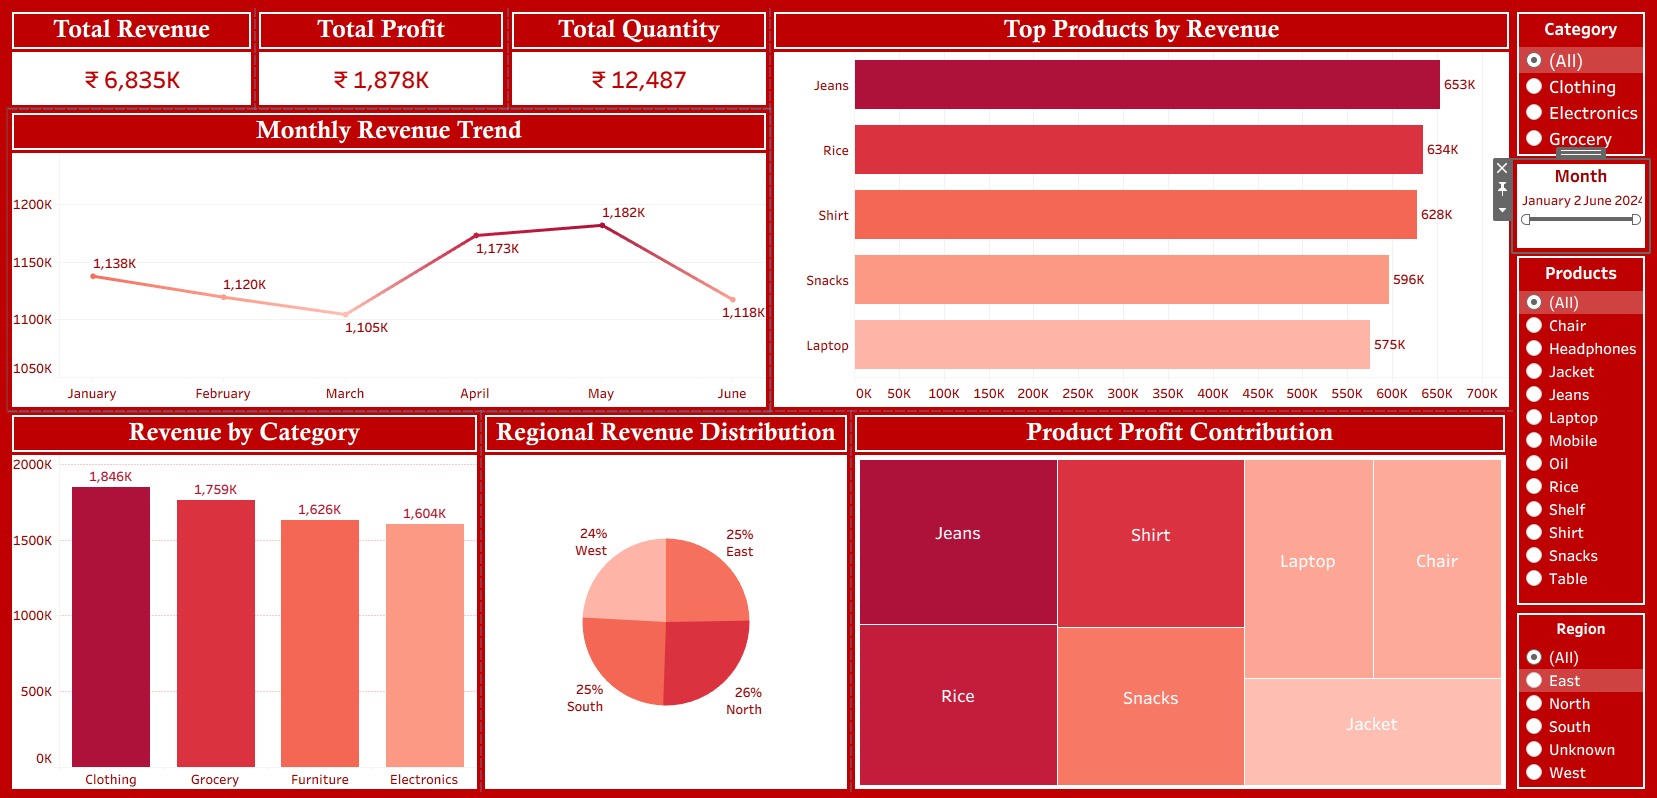

The page's visual inventory and layout, read from the dashboard file:
{"tool":"tableau","page":{"name":"Sales Performance Analysis Dashboard","canvas":[1000,1000],"units":"permille","ordinal":0},"visuals":[{"type":"worksheet","title":"Total Revenue","mark":"Automatic","box":[4.8,10,149.2,126]},{"type":"worksheet","title":"Total Profit","mark":"Automatic","box":[154.1,10,152.3,126]},{"type":"worksheet","title":"Total Quantity","mark":"Automatic","box":[306.4,10,158.4,126]},{"type":"worksheet","title":"Top Products by Revenue","mark":"Automatic","rows":["Product"],"cols":["Revenue"],"box":[464.7,10,448.4,503.1]},{"type":"filter","title":"Top Products by Revenue","param":"[federated.0xq11s31ljp14e19ptyl91097vs1].[Action (Category)]","box":[913.1,10,82.1,189.8]},{"type":"worksheet","title":"Monthly Revenue Trend","mark":"Automatic","rows":["Revenue"],"cols":["Month"],"box":[4.8,136,459.9,377.1]},{"type":"filter","title":"Monthly Revenue Trend","param":"[federated.0xq11s31ljp14e19ptyl91097vs1].[tmn:Month:qk]","box":[913.1,199.8,82.1,114.9]},{"type":"filter","title":"Regional Revenue Distribution","param":"[federated.0xq11s31ljp14e19ptyl91097vs1].[Action (Product)]","box":[913.1,314.6,82.1,445.7]},{"type":"worksheet","title":"Revenue by Category","mark":"Automatic","rows":["Revenue"],"cols":["Category"],"box":[4.8,513.1,285.4,476.9]},{"type":"worksheet","title":"Regional Revenue Distribution","mark":"Pie","box":[290.3,513.1,223.3,476.9]},{"type":"worksheet","title":"Product Profit Contribution","mark":"Automatic","box":[513.6,513.1,399.5,476.9]},{"type":"filter","title":"Product Profit Contribution","param":"[federated.0xq11s31ljp14e19ptyl91097vs1].[Action (Region)]","box":[913.1,760.3,82.1,229.7]}]}

Visuals, with their boxes on the dashboard's canvas, which has no fixed pixel size, in thousandths of its width and height (x1, y1, x2, y2). These are canvas units, not pixel positions in the 1657x798 screenshot, which may show the page scaled, cropped or inside an application window:
"Total Revenue" worksheet: bbox=(5, 10, 154, 136)
"Total Profit" worksheet: bbox=(154, 10, 306, 136)
"Total Quantity" worksheet: bbox=(306, 10, 465, 136)
"Top Products by Revenue" worksheet: bbox=(465, 10, 913, 513)
"Top Products by Revenue" filter: bbox=(913, 10, 995, 200)
"Monthly Revenue Trend" worksheet: bbox=(5, 136, 465, 513)
"Monthly Revenue Trend" filter: bbox=(913, 200, 995, 315)
"Regional Revenue Distribution" filter: bbox=(913, 315, 995, 760)
"Revenue by Category" worksheet: bbox=(5, 513, 290, 990)
"Regional Revenue Distribution" worksheet (Pie marks): bbox=(290, 513, 514, 990)
"Product Profit Contribution" worksheet: bbox=(514, 513, 913, 990)
"Product Profit Contribution" filter: bbox=(913, 760, 995, 990)
